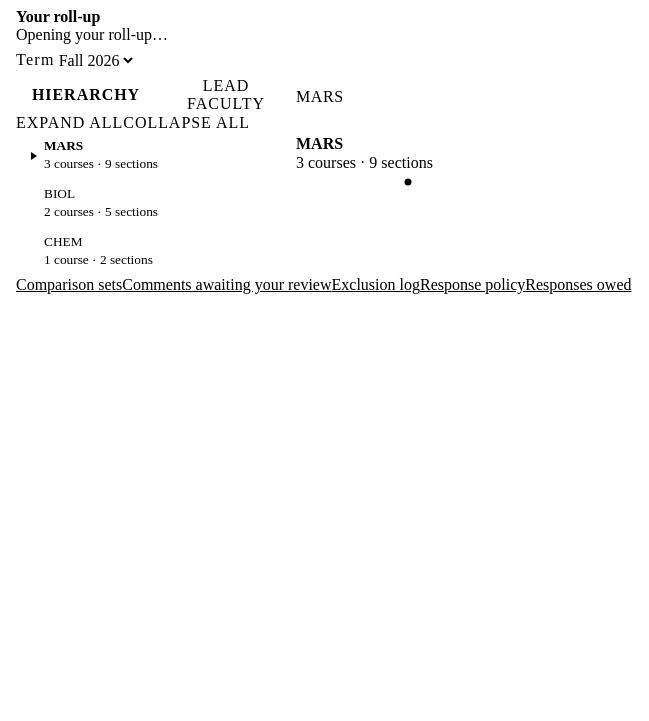
Test case: /leadership, the roll-up › offers a chair the by-lead control, which switches the tree to the lead groups
Step 1. Click the button "Lead faculty" → (226, 95), box [156,76,296,114]
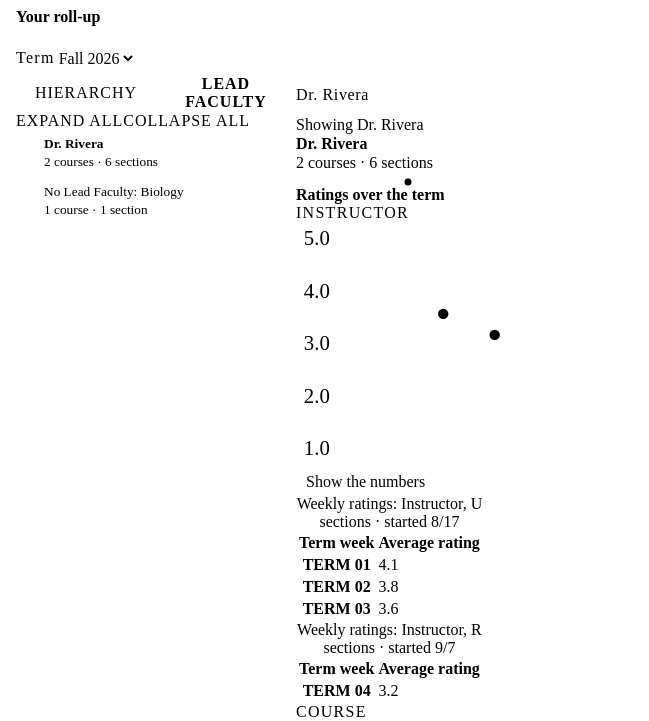
Expected: the heading "Dr. Rivera" is shown, [296,135,367,152]
